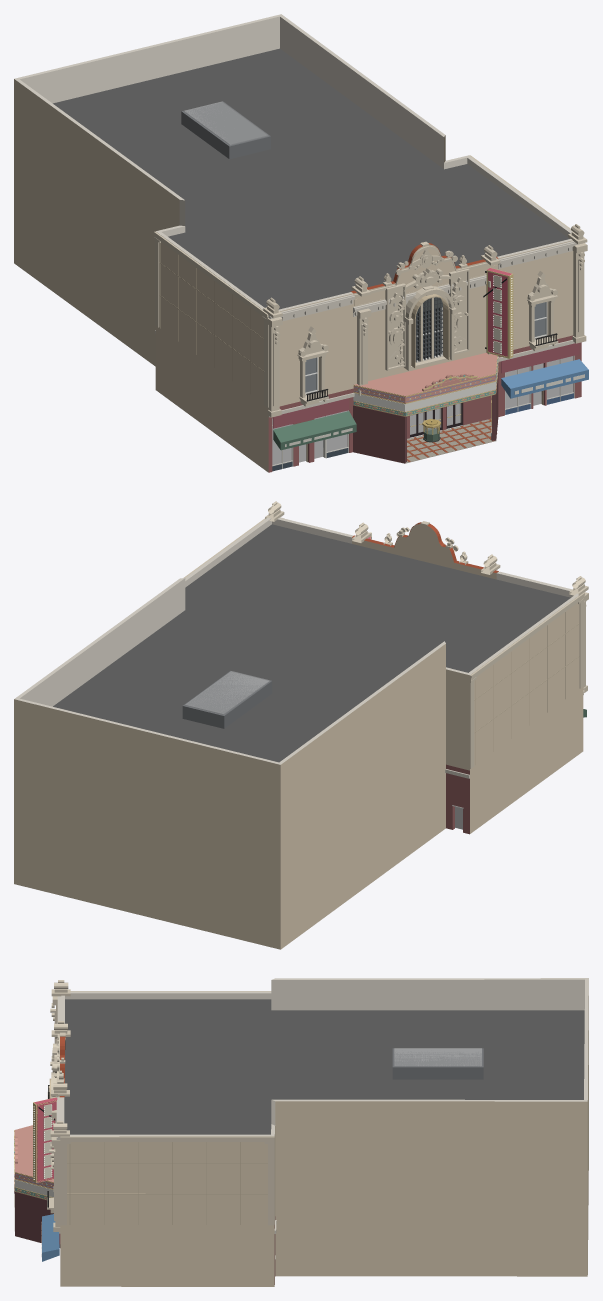
Rendered from exterior.glb.
3 views of the same model, one above another, from view 1: azimuth 30°, elevation 25°; view 2: azimuth 150°, elevation 25°; view 3: azimuth 270°, elevation 25° (orthographic). The views are drawn at different scales.
Visible parts, largest first — view 1: shell, roof, trim-theatre, awning-theatre, marquee, roof-skylight, shadow-proxy, trim, shell-forecourt, trim-returns, glazing, blade-sign-theatre (+4 smaller); view 2: shell, roof, trim-theatre, roof-skylight, trim-returns; view 3: shell, roof, trim-returns, roof-skylight, trim-theatre, blade-sign-theatre, marquee, shell-forecourt, awning-theatre, marquee-dress.
Boxes of the visible parts, x1,y1,x2,y2 form: shell: (14,14,581,472); roof: (53,48,568,309); trim-theatre: (263,224,587,417); awning-theatre: (273,343,588,450); marquee: (353,352,498,416); roof-skylight: (181,101,270,159); shadow-proxy: (272,302,572,464); trim: (155,241,582,417); shell-forecourt: (353,373,498,463); trim-returns: (154,155,570,407); glazing: (272,302,573,465); blade-sign-theatre: (483,267,513,358); shell: (14,517,583,949); roof: (53,524,570,762); trim-theatre: (265,501,588,693); roof-skylight: (182,671,272,728); trim-returns: (183,518,584,768); shell: (60,978,588,1286); roof: (64,999,584,1134); trim-returns: (60,991,274,1225); roof-skylight: (392,1048,483,1079); trim-theatre: (47,980,70,1231); blade-sign-theatre: (33,1097,57,1182); marquee: (14,1125,53,1197); shell-forecourt: (14,1176,60,1247); awning-theatre: (41,1214,60,1261); marquee-dress: (14,1130,53,1199).
Bounding box in the file's own units: 30.42 × 17.52 × 50.54.
